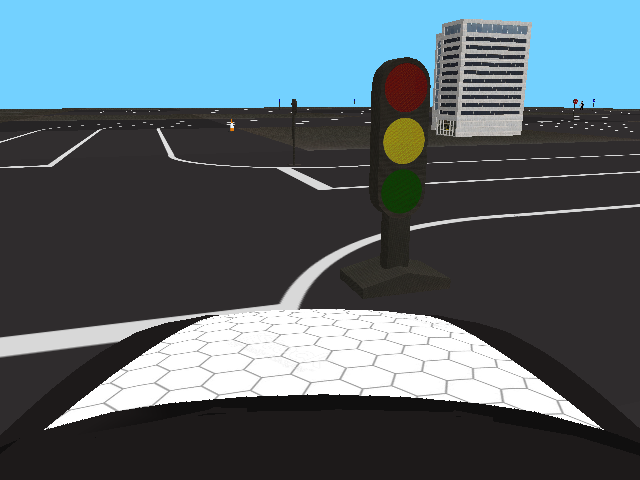yellow_light: (369, 56, 429, 221)
